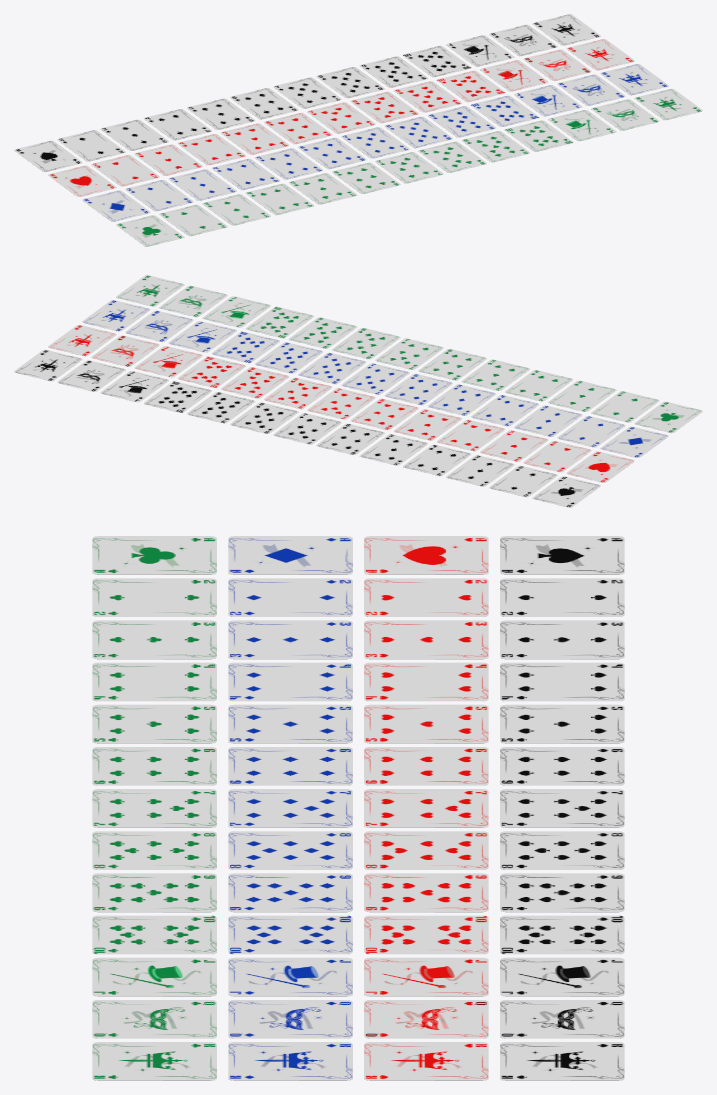
The model's file is NewCards.fbx.
3 views of the same model, one above another, from view 1: azimuth 30°, elevation 25°; view 2: azimuth 150°, elevation 25°; view 3: azimuth 270°, elevation 25° (orthographic). The views are drawn at different scales.
Visible parts, largest first — view 1: Cube.016, Cube.035, Cube.011, Cube.013, Cube.019, Cube.032, Cube.038, Cube.040, Cube.017, Cube.018, Cube.020, Cube.031 (+40 smaller); view 2: Cube.022, Cube.029, Cube.001, Cube.019, Cube.025, Cube.026, Cube.032, Cube.050, Cube.018, Cube.020, Cube.021, Cube.030 (+40 smaller); view 3: Cube.003, Cube.009, Cube.042, Cube.048, Cube.016, Cube.022, Cube.029, Cube.035, Cube.002, Cube.004, Cube.008, Cube.010 (+40 smaller).
Part boxes in pixels (<box>): Cube.016: <box>211,158,280,190</box>; Cube.035: <box>436,70,505,102</box>; Cube.011: <box>591,99,659,130</box>; Cube.013: <box>82,190,150,221</box>; Cube.019: <box>341,127,409,158</box>; Cube.032: <box>307,102,375,133</box>; Cube.038: <box>566,39,634,70</box>; Cube.040: <box>57,130,125,161</box>; Cube.017: <box>255,148,323,179</box>; Cube.018: <box>298,137,366,169</box>; Cube.020: <box>384,116,452,148</box>; Cube.031: <box>264,112,332,144</box>; Cube.022: <box>211,331,280,363</box>; Cube.029: <box>436,419,505,451</box>; Cube.001: <box>591,391,659,422</box>; Cube.019: <box>341,363,409,394</box>; Cube.025: <box>82,300,150,331</box>; Cube.026: <box>566,451,634,482</box>; Cube.032: <box>307,388,375,419</box>; Cube.050: <box>57,360,125,391</box>; Cube.018: <box>384,373,452,405</box>; Cube.020: <box>298,352,366,384</box>; Cube.021: <box>255,342,323,373</box>; Cube.030: <box>393,409,461,440</box>; Cube.003: <box>92,662,216,701</box>; Cube.009: <box>92,915,216,954</box>; Cube.042: <box>500,662,624,701</box>; Cube.048: <box>500,915,624,954</box>; Cube.016: <box>228,662,352,701</box>; Cube.022: <box>228,915,352,954</box>; Cube.029: <box>364,662,488,701</box>; Cube.035: <box>364,915,488,954</box>; Cube.002: <box>92,620,216,659</box>; Cube.004: <box>92,704,216,743</box>; Cube.008: <box>92,873,216,912</box>; Cube.010: <box>92,957,216,996</box>.
Size of the model in its own units: 1749 by 0.1462 by 723.
